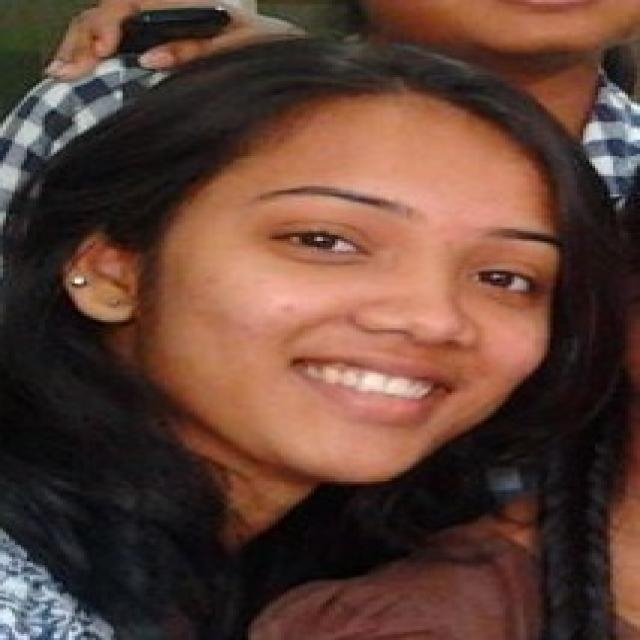Nonhelmet: (43, 25, 577, 501)
